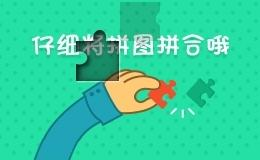target: (53, 21, 97, 61)
